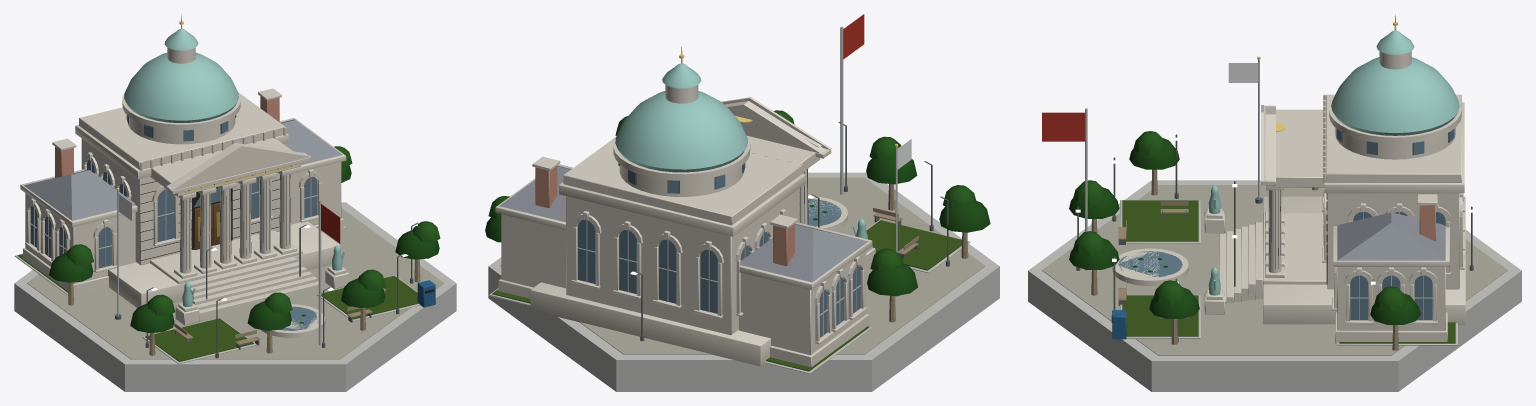
File: library_us.glb
3 renders of one model, left to right at view 1: azimuth 30°, elevation 25°; view 2: azimuth 150°, elevation 25°; view 3: azimuth 270°, elevation 25°, orthographic. The views are drawn at different scales.
Parts seen in each view (by area): view 1: stone, wall_concrete, pavers, copper, leaf, roof_slate, glass, turf, dark, wood, steel_dark, paint (+3 smaller); view 2: stone, wall_concrete, pavers, copper, glass, leaf, roof_slate, turf, brick, metal, wood, steel_dark (+1 smaller); view 3: stone, wall_concrete, pavers, copper, leaf, turf, roof_slate, glass, paint, wood, steel_dark, metal (+3 smaller).
Part boxes in pixels (bbox=[...]): stone: bbox=[20, 47, 348, 337]; wall_concrete: bbox=[14, 161, 456, 391]; pavers: bbox=[27, 208, 443, 359]; copper: bbox=[124, 29, 344, 306]; leaf: bbox=[49, 146, 440, 332]; roof_slate: bbox=[24, 119, 342, 220]; glass: bbox=[30, 115, 318, 330]; turf: bbox=[17, 254, 418, 361]; dark: bbox=[128, 115, 434, 293]; wood: bbox=[68, 201, 420, 355]; steel_dark: bbox=[115, 222, 417, 358]; paint: bbox=[321, 204, 435, 307]; stone: bbox=[495, 85, 875, 367]; wall_concrete: bbox=[488, 172, 999, 391]; pavers: bbox=[579, 177, 984, 354]; copper: bbox=[615, 63, 867, 239]; glass: bbox=[578, 163, 860, 337]; leaf: bbox=[485, 110, 990, 296]; roof_slate: bbox=[499, 165, 868, 282]; turf: bbox=[492, 220, 961, 371]; brick: bbox=[535, 166, 794, 266]; metal: bbox=[840, 26, 897, 252]; wood: bbox=[873, 184, 968, 322]; steel_dark: bbox=[635, 122, 949, 341]; stone: bbox=[1112, 51, 1465, 343]; wall_concrete: bbox=[1028, 180, 1521, 391]; pavers: bbox=[1042, 185, 1507, 355]; copper: bbox=[1208, 30, 1459, 295]; leaf: bbox=[1069, 131, 1420, 324]; turf: bbox=[1122, 200, 1455, 343]; roof_slate: bbox=[1337, 212, 1445, 260]; glass: bbox=[1118, 129, 1454, 320]; paint: bbox=[1042, 112, 1126, 339]; wood: bbox=[1091, 169, 1398, 350]; steel_dark: bbox=[1076, 134, 1473, 342]; metal: bbox=[1085, 59, 1259, 270].
Bounding box in the file's own units: 21.41 × 15.8 × 24.6.
